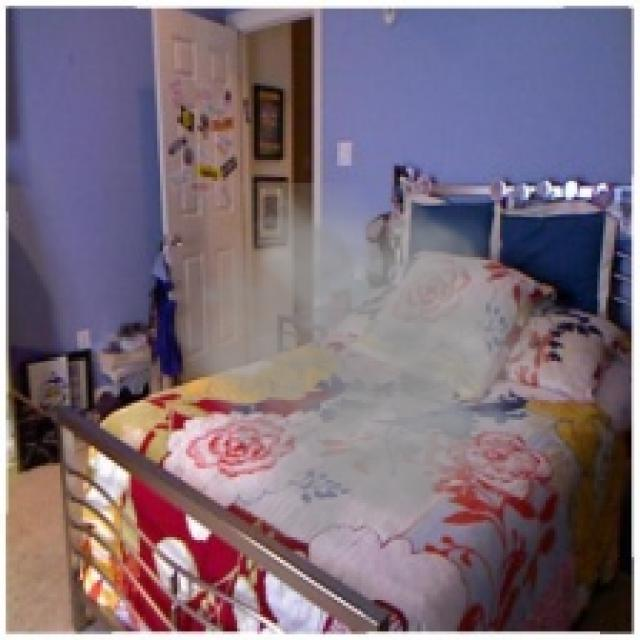smoke: (168, 183, 572, 580)
